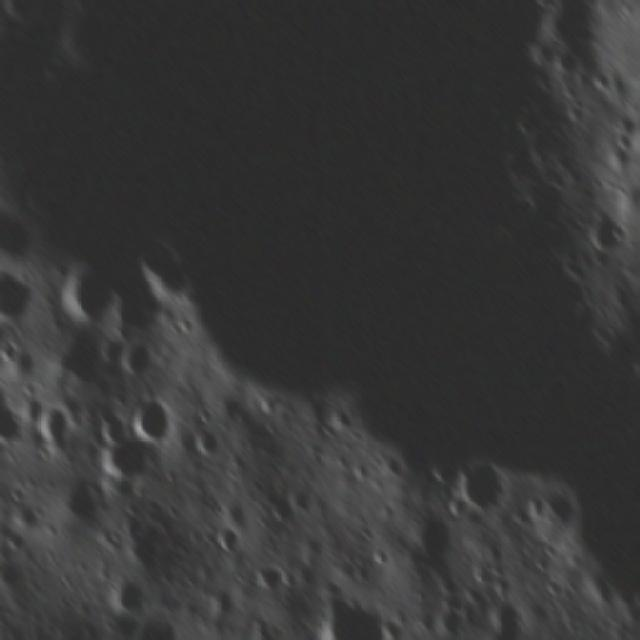crater: (94, 426, 158, 492), (318, 586, 397, 639), (57, 260, 120, 323), (456, 459, 512, 521), (404, 509, 462, 565), (55, 470, 110, 528), (130, 396, 182, 446), (527, 486, 575, 537), (120, 332, 172, 377), (590, 207, 635, 256), (36, 402, 78, 444), (190, 423, 227, 463), (487, 597, 525, 635), (108, 576, 146, 613), (212, 523, 250, 559), (256, 563, 293, 594)
